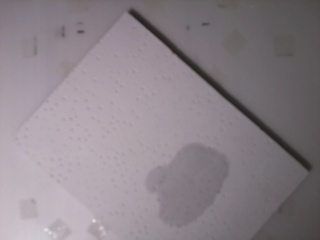Water_detected: (154, 151, 216, 211)
